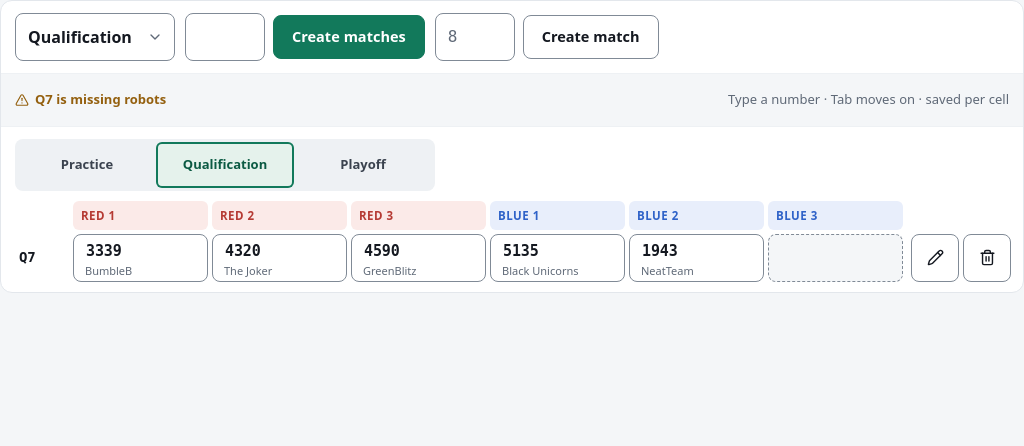
Test case: MatchesPanel › creates qualification matches in bulk from a count and adds them to the list
In the number field named "How many qualification matches?": {"x": 225, "y": 37} [185,13,265,61], type "2"
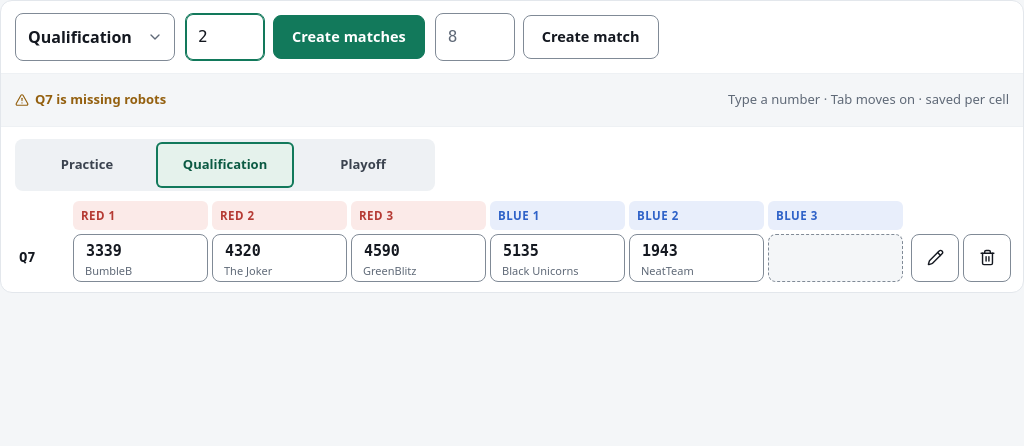
Click the button "Create matches": {"x": 349, "y": 37} [273,15,425,59]
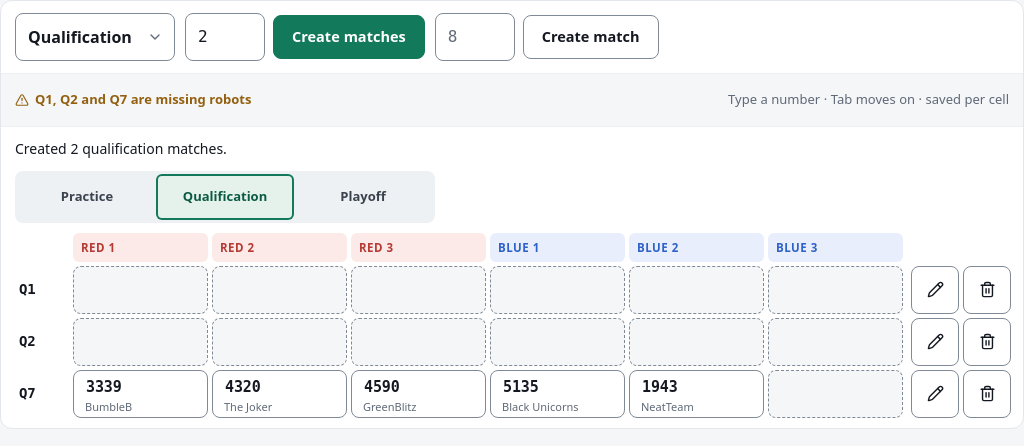
Now the message reads "Created 2 qualification matches.", box [15,138,227,158]
